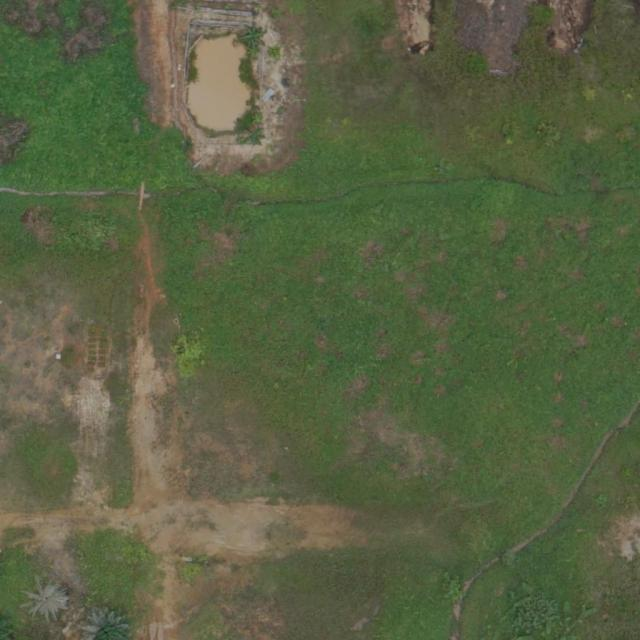Dead: (23, 577, 70, 624)
